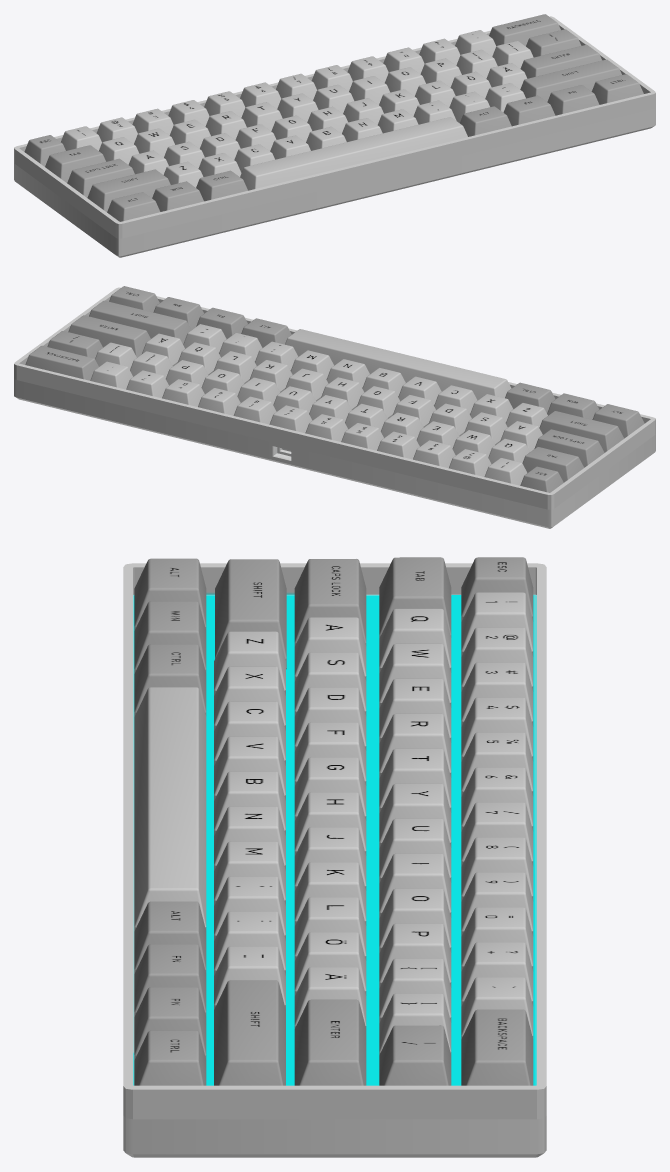
The picture shows the model from 3 angles, top to bottom: view 1: azimuth 30°, elevation 25°; view 2: azimuth 150°, elevation 25°; view 3: azimuth 270°, elevation 25°; orthographic projection. The views are drawn at different scales.
Parts seen in each view (by area): view 1: Keycap, BackPlate; view 2: Keycap, BackPlate; view 3: Keycap, BackPlate.
Boxes of the visible parts, <box> form: Keycap: <box>24,14,643,221</box>; BackPlate: <box>14,16,655,257</box>; Keycap: <box>25,286,644,492</box>; BackPlate: <box>14,287,655,528</box>; Keycap: <box>134,557,533,1085</box>; BackPlate: <box>123,563,546,1157</box>.
Bounding box in the file's own units: 129 × 10.14 × 43.84.
Materials: 2 (2 with a texture image).
